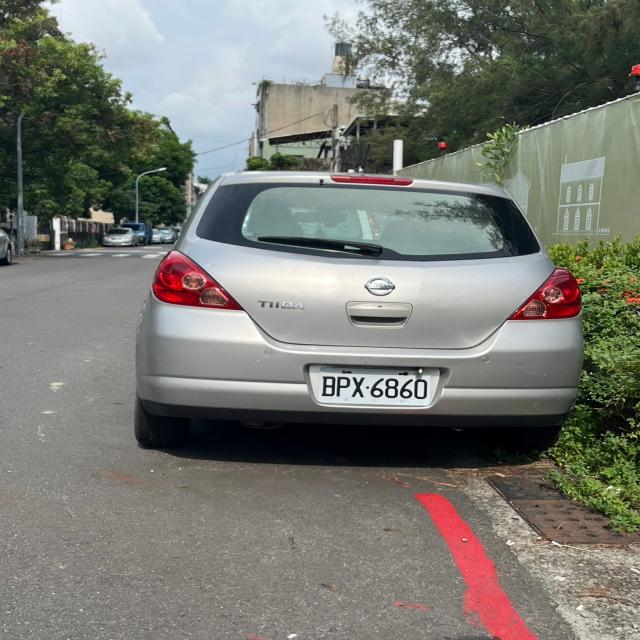license-plate: (314, 367, 440, 408)
